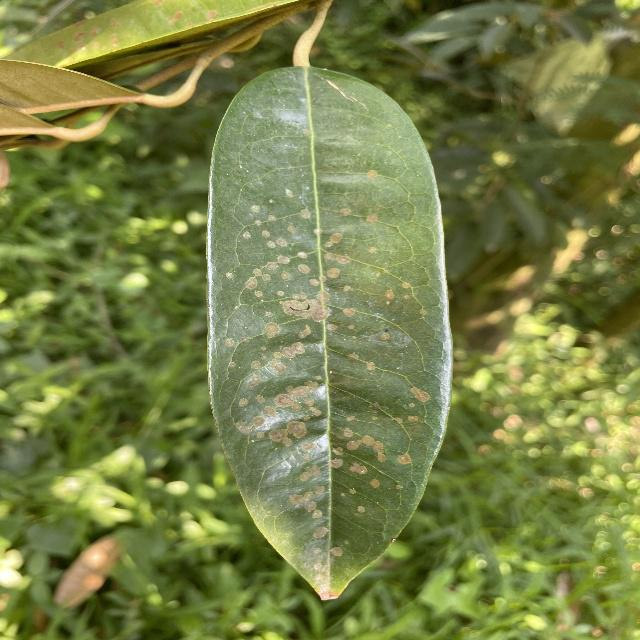Algal Leaf Spot: (199, 51, 466, 613)
